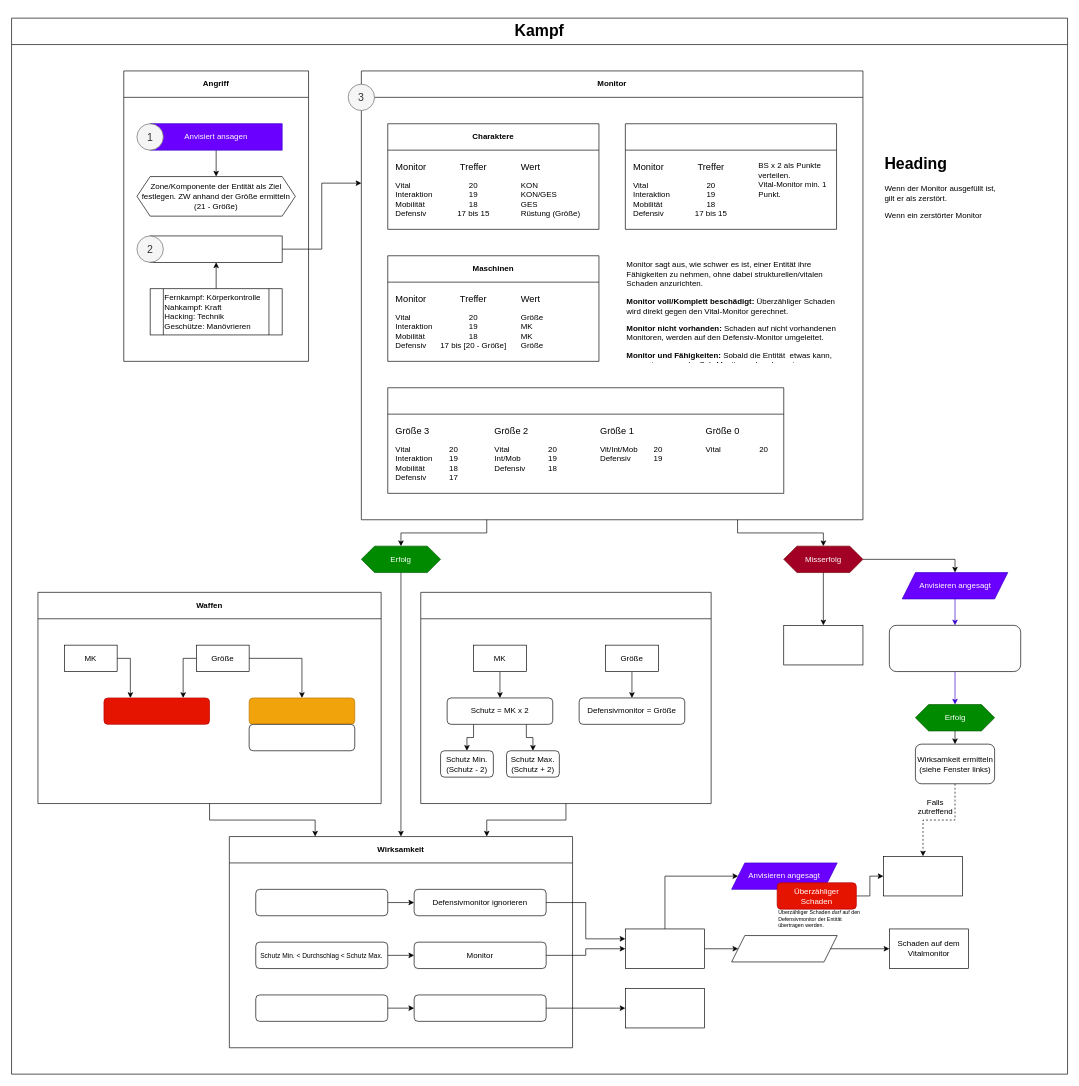
Image size: 1079x1086. Some labels were removed from this diagram. The box of each missing label's shape, as (x1, y1, x2, y2) in pixels:
AE-Kosten = Größe / 2: (248, 724, 355, 751)
Angriff fehlgeschalten: (783, 625, 863, 665)
Angriffswurf: (149, 235, 282, 262)
Durchschlag = MK + Größe: (103, 697, 210, 724)
Durchschlag >= Schutz Max.: (255, 889, 388, 916)
Erwürfelter Monitor = Defensivmonitor: (731, 935, 837, 962)
Handlanger: (625, 123, 837, 229)
Kein Schaden: (625, 988, 705, 1028)
Kleine Maschinen und kleine Größen: (387, 387, 784, 493)
Prüfen ob die größere Entität getroffen wurde: (889, 625, 1021, 672)
Rüstung: (420, 592, 711, 804)
Schaden = Größe / 2: (248, 697, 355, 724)
Schaden auf dem Defensivmonitor: (883, 856, 963, 896)
Schaden auf dem erwürfelten Monitor: (625, 928, 705, 969)
Schutz Min. > Durchschlag: (255, 994, 388, 1021)
Wirkungslos: (413, 994, 546, 1021)
